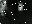person: (1, 1, 9, 19), (19, 3, 24, 12)
